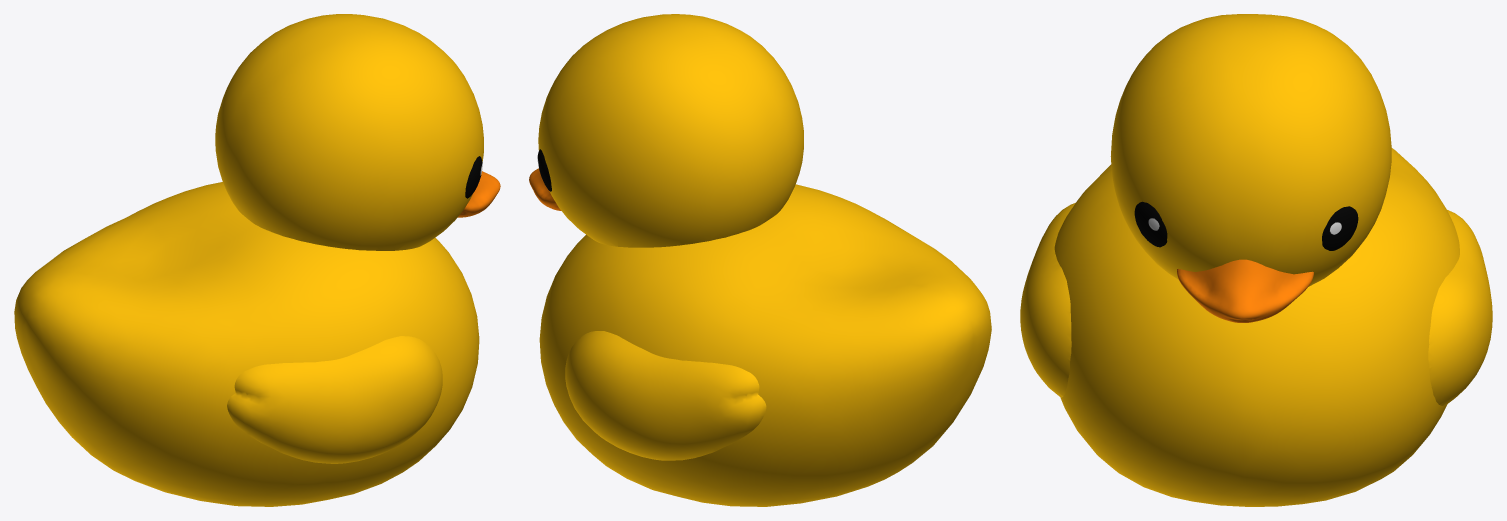
Rendered from duck.dae.
3 renders of one model, left to right at view 1: azimuth 30°, elevation 25°; view 2: azimuth 150°, elevation 25°; view 3: azimuth 270°, elevation 25°, orthographic. The views are drawn at different scales.
Visible parts, largest first — view 1: Group3, Group6, wing_1_1_2, Group2; view 2: Group3, Group6, wing_1, Group2; view 3: Group3, Group6, wing_1, wing_1_1_2, Group2, eye_1, eye_1_1_2.
Boxes of the visible parts, <box> form: Group3: <box>14,182,479,506</box>; Group6: <box>215,14,483,250</box>; wing_1_1_2: <box>227,336,442,463</box>; Group2: <box>458,171,500,217</box>; Group3: <box>539,184,991,506</box>; Group6: <box>538,14,803,247</box>; wing_1: <box>565,331,766,460</box>; Group2: <box>529,168,561,210</box>; Group3: <box>1054,148,1459,506</box>; Group6: <box>1110,14,1391,286</box>; wing_1: <box>1428,210,1492,405</box>; wing_1_1_2: <box>1020,202,1075,397</box>; Group2: <box>1177,259,1313,322</box>; eye_1: <box>1322,206,1358,250</box>; eye_1_1_2: <box>1134,201,1167,247</box>.
Bounding box in the file's own units: 12034 × 9613 × 10676.
3 materials, 1 textured.
